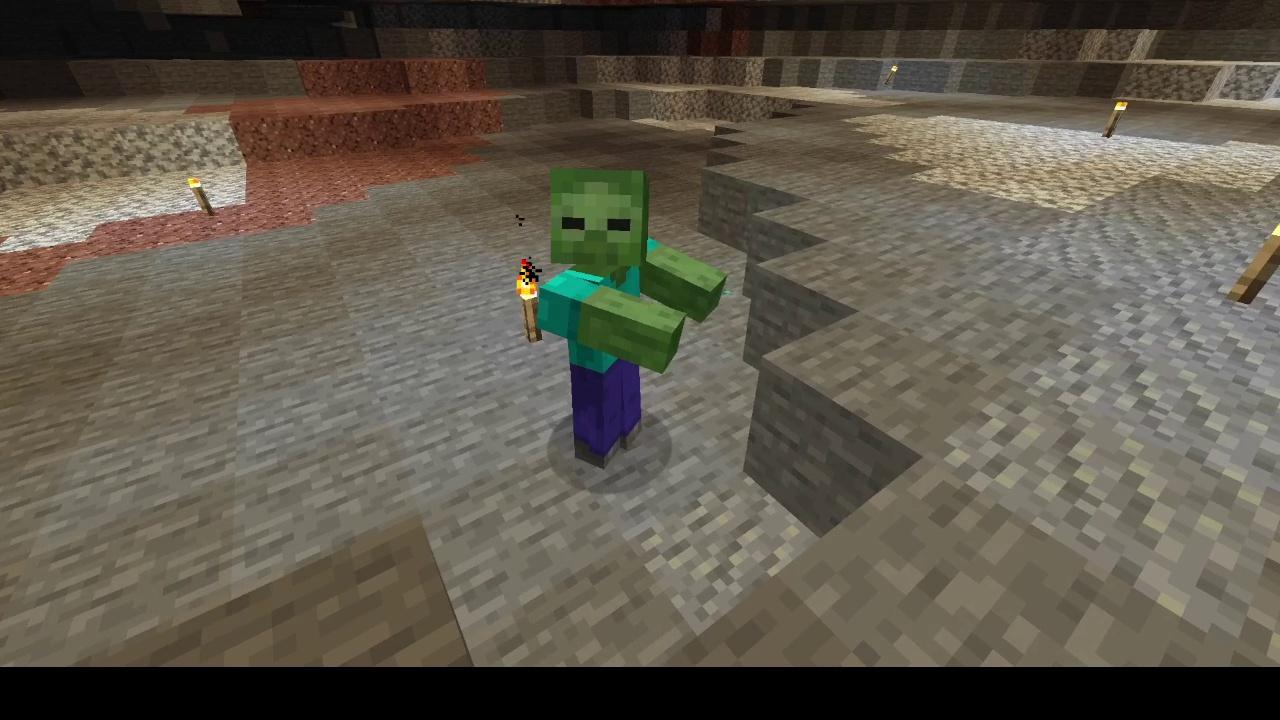zombie: (532, 162, 731, 478)
